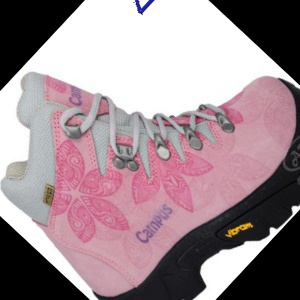triangle: (126, 1, 157, 20)
